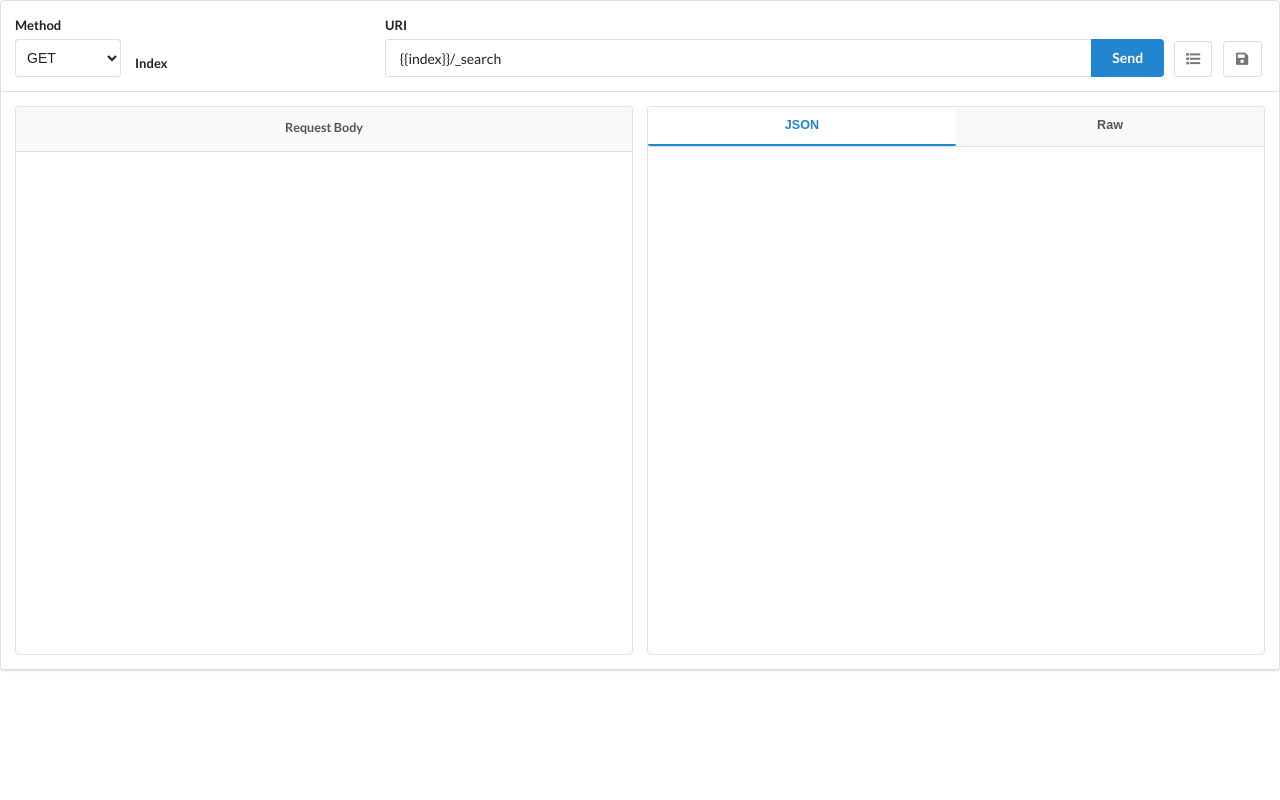
Test: PlaygroundLayout response pane › shows a cluster error response in full without a notification
This screenshot has width=1280, height=800.
Click the button "Send" at (1128, 58), box [1091,39,1164,77]
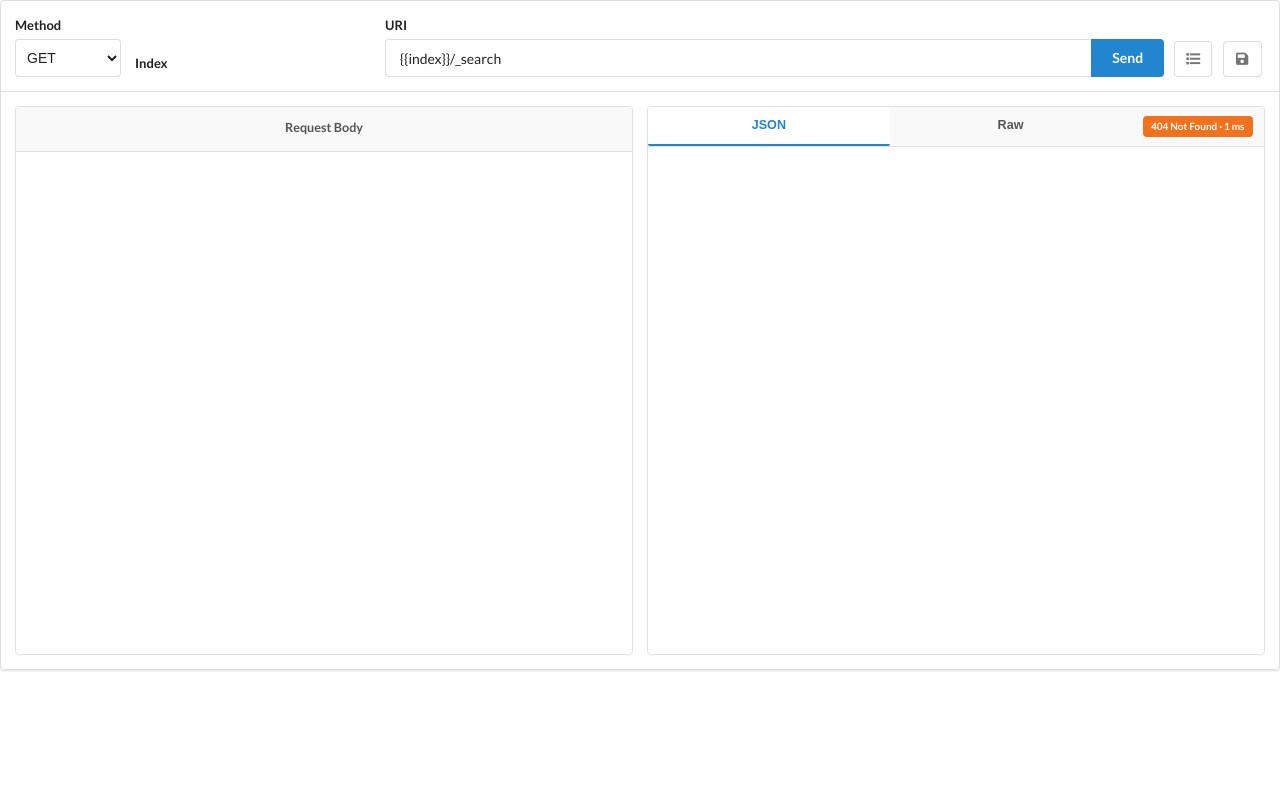
Expected: the text with test id "response-status" reads "404 Not Found · 1 ms", [1151,120,1244,132]
